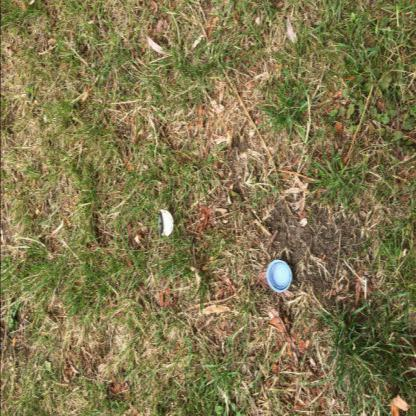Bottle: (266, 260, 292, 292), (158, 210, 173, 238)
